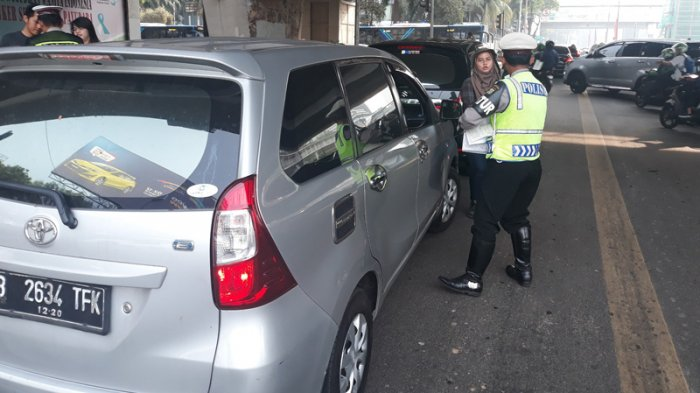plate: (1, 272, 106, 330)
